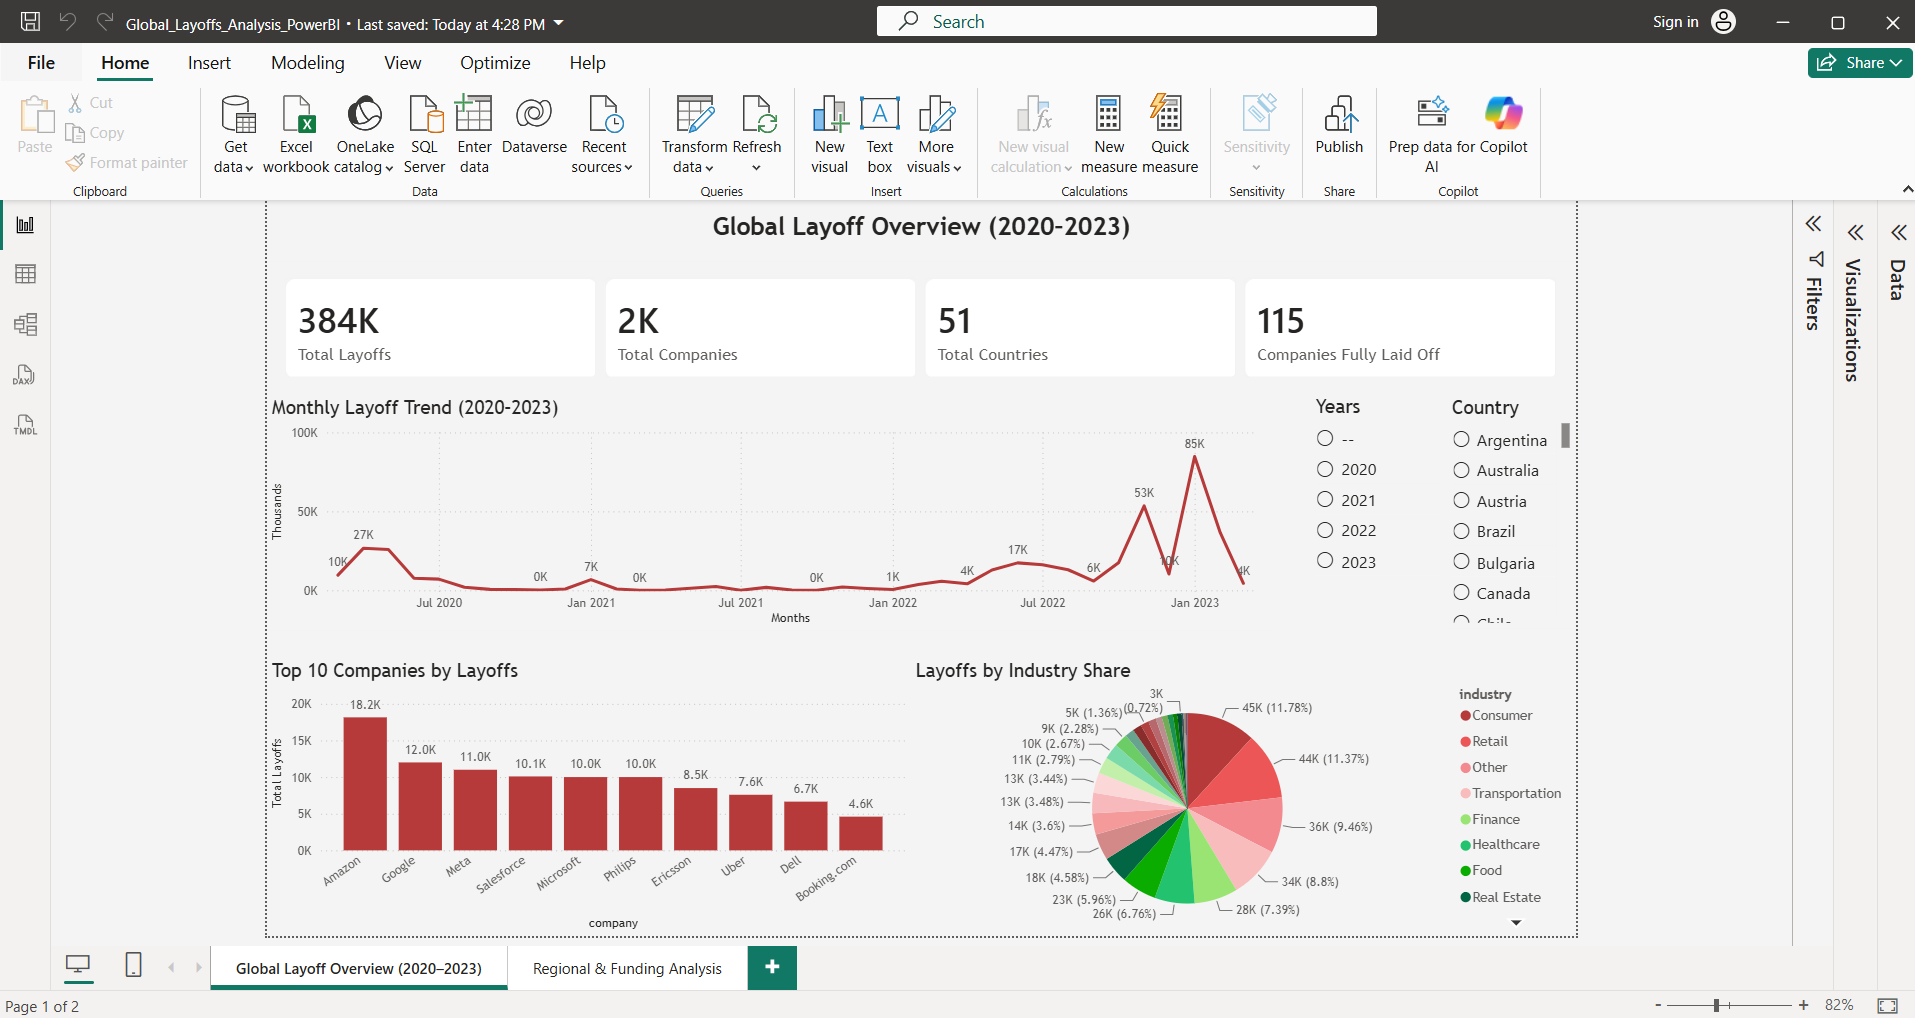

Layout of this report page (visuals, bound fields, positions):
{"tool":"powerbi","page":{"name":"Global Layoff Overview (2020–2023)","canvas":[1280,720],"ordinal":0},"visuals":[{"type":"cardVisual","fields":{"Data":["world_layoffs_cleaned.Total Layoffs","world_layoffs_cleaned.Total Companies","world_layoffs_cleaned.Total Countries","world_layoffs_cleaned.Companies Fully Laid Off"]},"box":[0,59.2,1280,132.5],"z":0},{"type":"lineChart","title":"Monthly Layoff Trend (2020–2023)","fields":{"Y":["world_layoffs_cleaned.Total Layoffs"],"Category":["world_layoffs_cleaned.date (bins)"]},"box":[0,192,984.4,228.7],"z":1000},{"type":"columnChart","title":"Top 10 Companies by Layoffs","fields":{"Category":["world_layoffs_cleaned.company"],"Y":["world_layoffs_cleaned.Total Layoffs"]},"box":[0,448.8,629.8,270.2],"z":2000},{"type":"textbox","box":[0,6.8,1280.3,52.9],"z":3000},{"type":"pieChart","title":"Layoffs by Industry Share","fields":{"Category":["world_layoffs_cleaned.industry"],"Y":["world_layoffs_cleaned.Total Layoffs"]},"box":[629.8,448.8,650.5,271.5],"z":4000},{"type":"listSlicer","fields":{"Values":["world_layoffs_cleaned.Years"]},"box":[1021.1,190.8,133.3,227.4],"z":5000},{"type":"listSlicer","title":"Country","fields":{"Values":["world_layoffs_cleaned.country"]},"box":[1154.4,192,126,227.4],"z":6000}]}

Visuals, with their boxes on the page's 1280x720 design canvas (x1, y1, x2, y2). These are canvas units, not pixel positions in the 1915x1018 screenshot, which may show the page scaled, cropped or inside an application window:
cardVisual - world_layoffs_cleaned.Total Layoffs x world_layoffs_cleaned.Total Companies: crop(0, 59, 1280, 192)
"Monthly Layoff Trend (2020–2023)" lineChart: crop(0, 192, 984, 421)
"Top 10 Companies by Layoffs" columnChart: crop(0, 449, 630, 719)
textbox: crop(0, 7, 1280, 60)
"Layoffs by Industry Share" pieChart: crop(630, 449, 1280, 720)
listSlicer - world_layoffs_cleaned.Years: crop(1021, 191, 1154, 418)
"Country" listSlicer: crop(1154, 192, 1280, 419)
